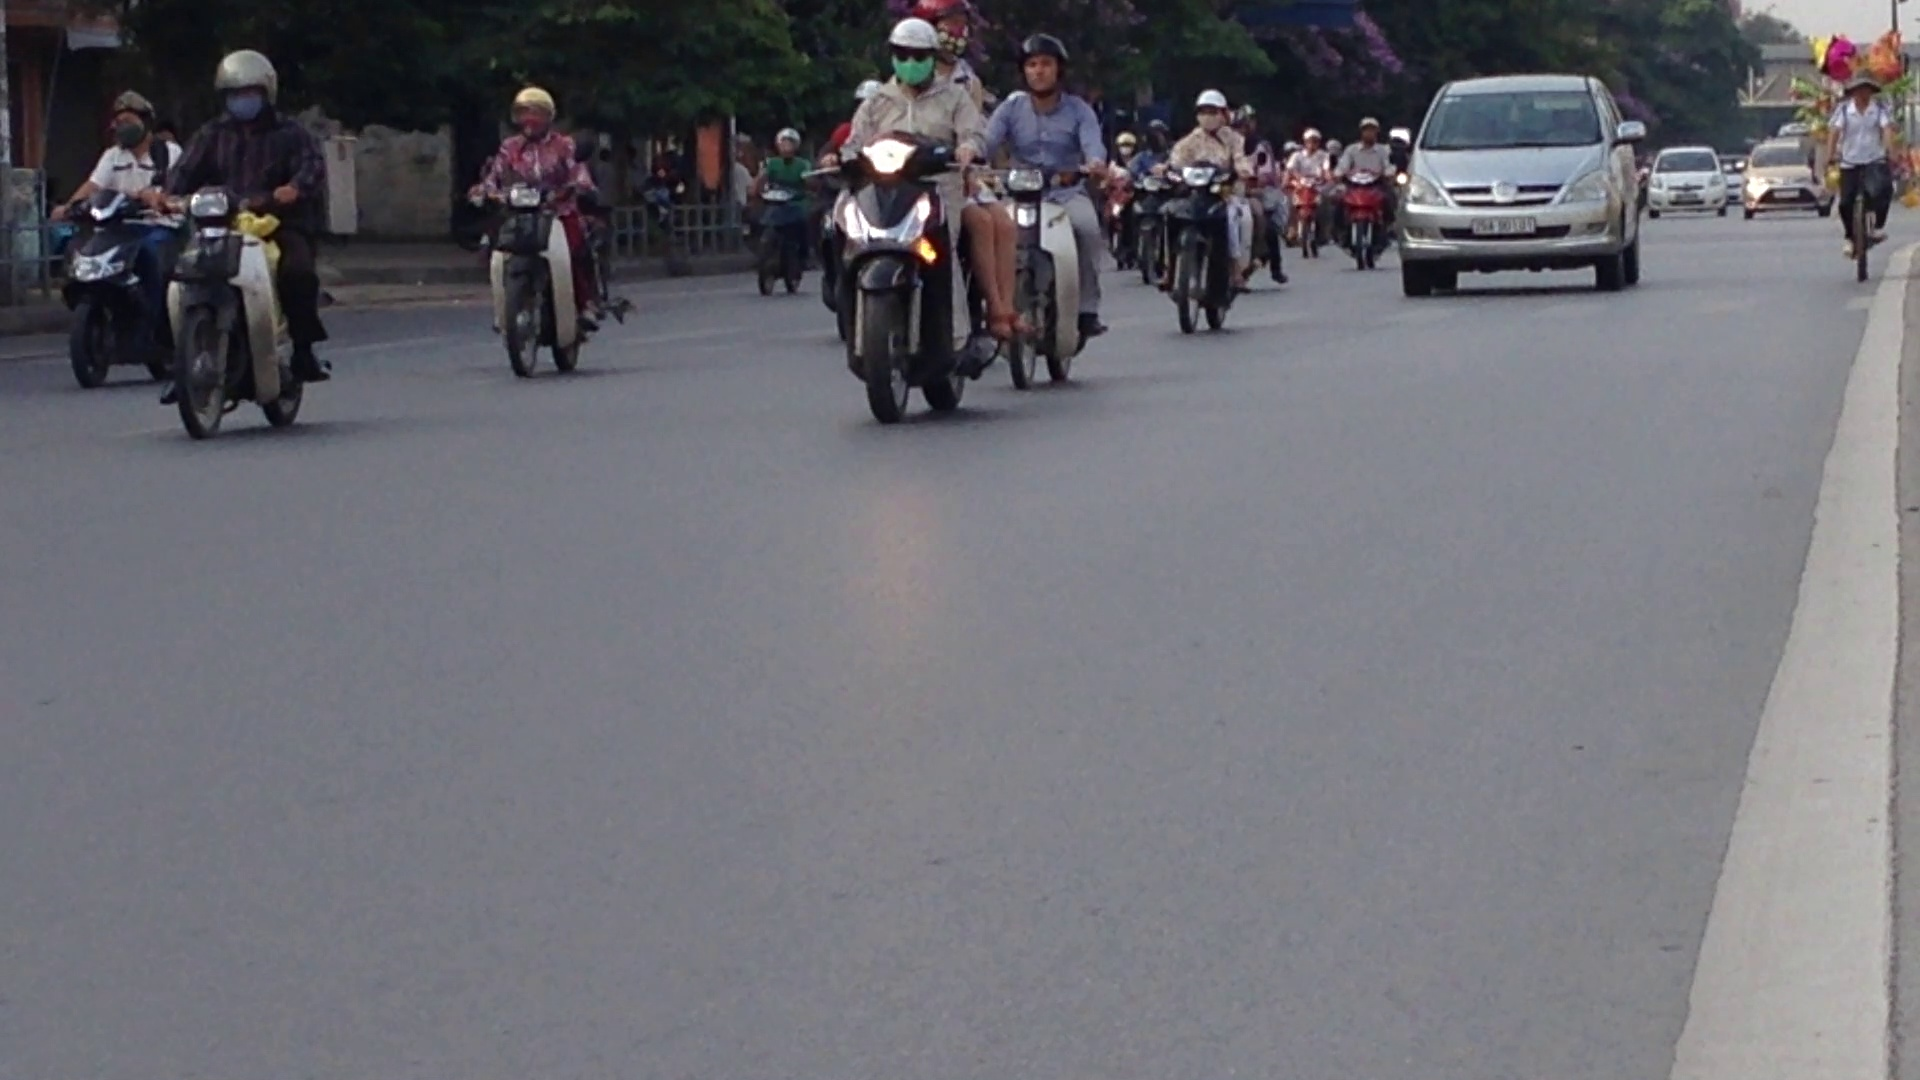person: (1466, 211, 1543, 238)
